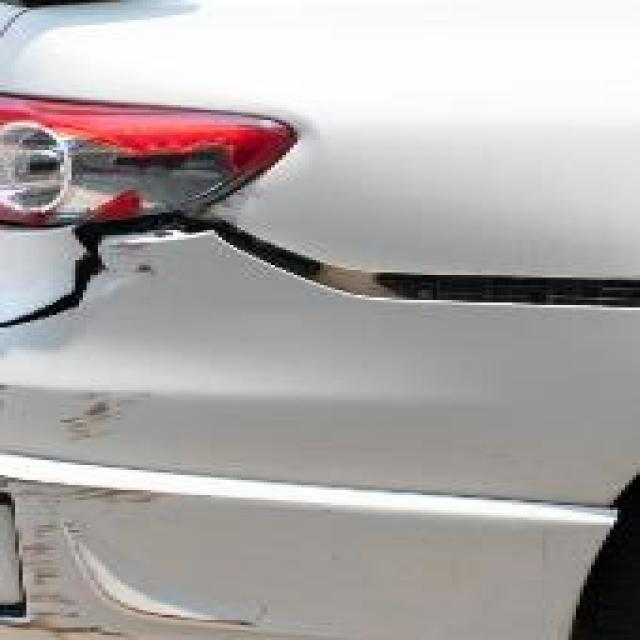Bumper: (8, 230, 640, 640)
Light: (4, 92, 271, 222)
